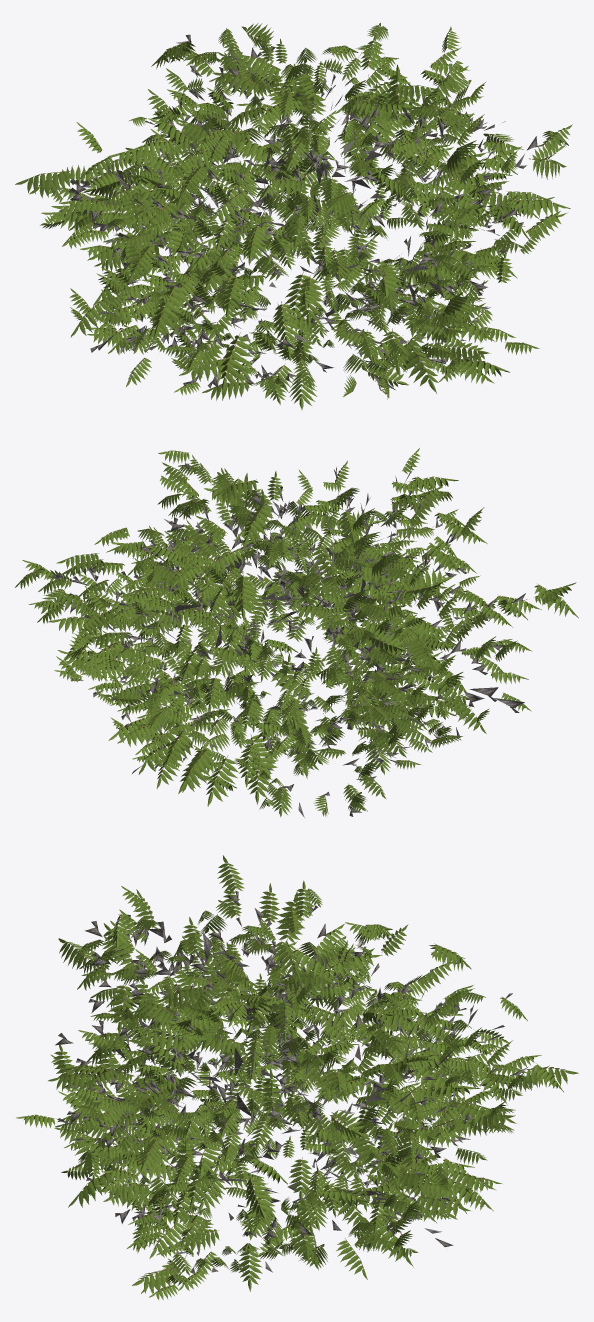
File: tree-rowan.glb
The picture shows the model from 3 angles, top to bottom: view 1: azimuth 30°, elevation 25°; view 2: azimuth 150°, elevation 25°; view 3: azimuth 270°, elevation 25°; orthographic projection. The views are drawn at different scales.
Parts seen in each view (by area): view 1: tree-rowan; view 2: tree-rowan; view 3: tree-rowan.
Boxes of the visible parts, <box> form: tree-rowan: <box>15,23,572,410</box>; tree-rowan: <box>15,448,578,817</box>; tree-rowan: <box>16,855,578,1299</box>.
Size of the model in its own units: 9.5 by 5.53 by 8.75.
Materials: 3 (3 with a texture image).
